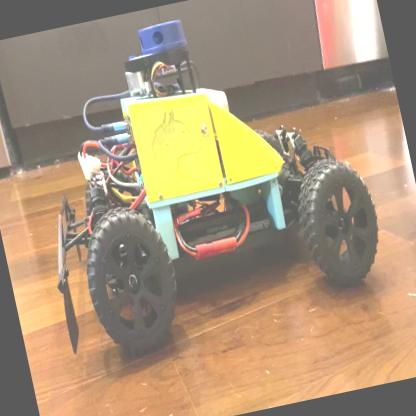mushr_car: (2, 0, 405, 374)
